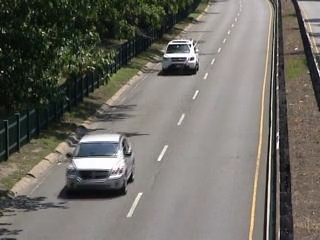car: (59, 129, 138, 198), (160, 36, 203, 76)
